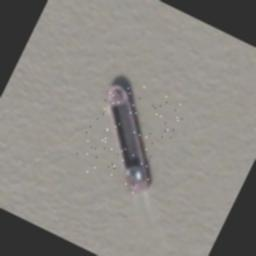boat: (70, 70, 188, 200)
